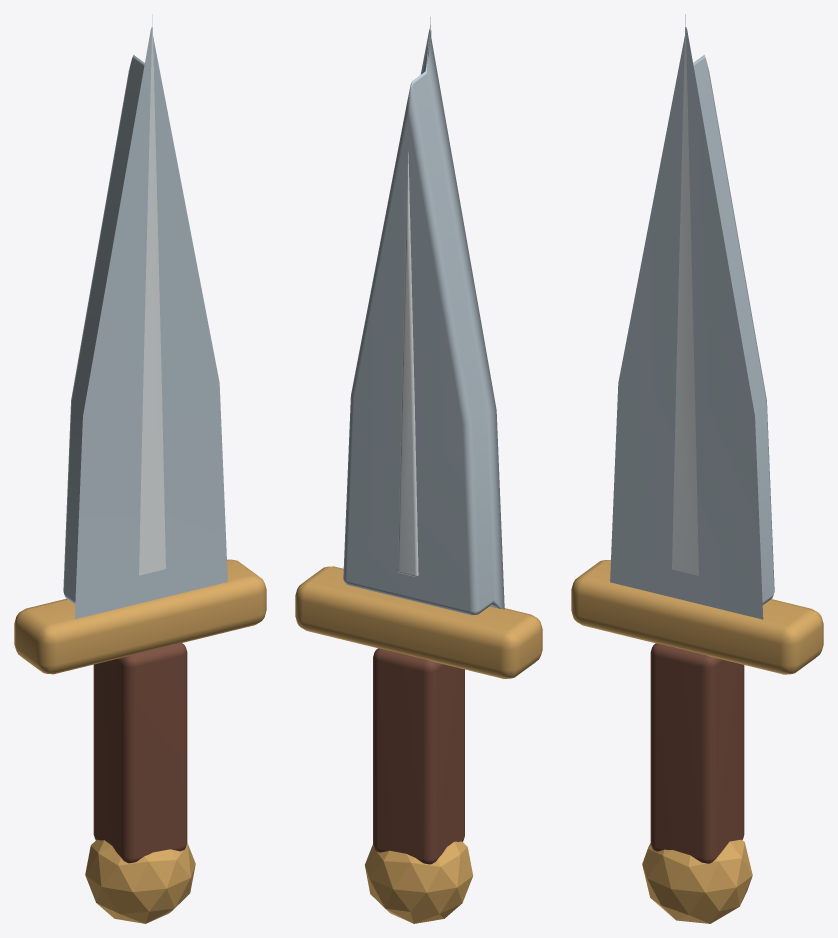
File: fitted_dagger.glb
3 renders of one model, left to right at view 1: azimuth 30°, elevation 25°; view 2: azimuth 150°, elevation 25°; view 3: azimuth 330°, elevation 25°, orthographic.
Parts seen in each view (by area): view 1: Dagger | tapered blade, Dagger | leather grip, Dagger | guard, Dagger | bright edge, Dagger | pommel; view 2: Dagger | tapered blade, Dagger | leather grip, Dagger | guard, Dagger | pommel, Dagger | bright edge; view 3: Dagger | tapered blade, Dagger | leather grip, Dagger | guard, Dagger | bright edge, Dagger | pommel.
Boxes of the visible parts, <box> form: Dagger | tapered blade: <box>63,27,227,619</box>; Dagger | leather grip: <box>93,643,187,863</box>; Dagger | guard: <box>14,559,266,674</box>; Dagger | bright edge: <box>139,14,165,575</box>; Dagger | pommel: <box>85,840,195,923</box>; Dagger | tapered blade: <box>343,29,504,615</box>; Dagger | leather grip: <box>373,648,464,864</box>; Dagger | guard: <box>295,566,542,678</box>; Dagger | pommel: <box>365,841,473,923</box>; Dagger | bright edge: <box>398,17,431,576</box>; Dagger | tapered blade: <box>610,27,774,619</box>; Dagger | leather grip: <box>650,643,744,863</box>; Dagger | guard: <box>571,560,823,674</box>; Dagger | bright edge: <box>672,14,698,575</box>; Dagger | pommel: <box>642,839,752,923</box>.
Size of the model in its own units: 0.17 by 0.652 by 0.068.
